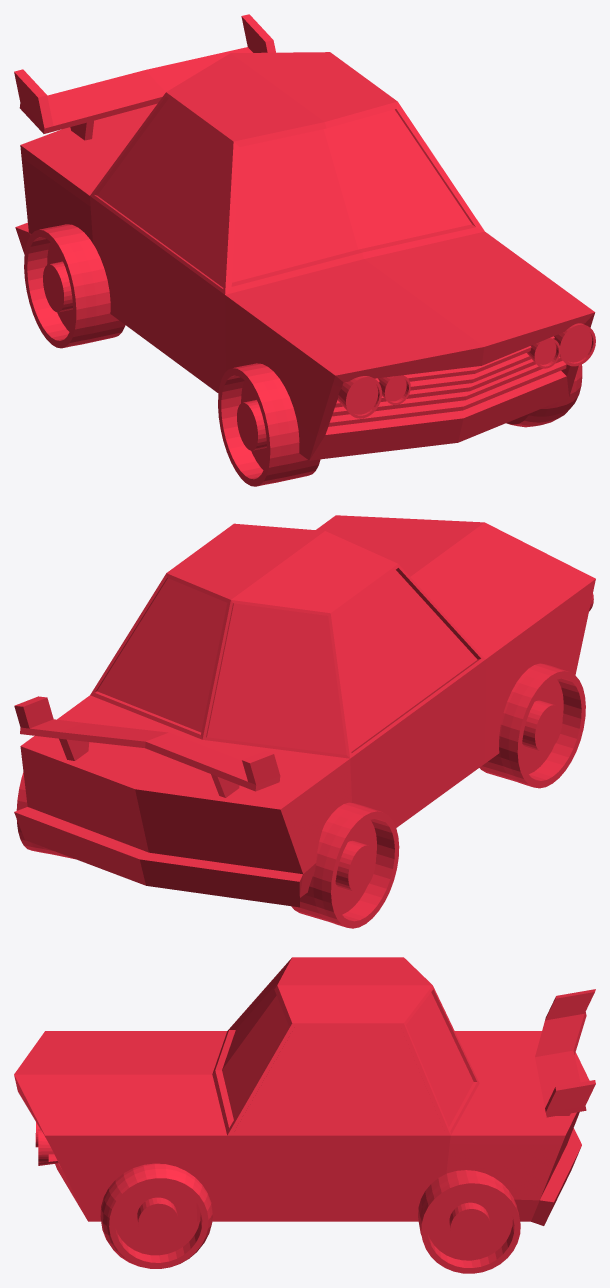
Rendered from auto.fbx.
The picture shows the model from 3 angles, top to bottom: view 1: azimuth 30°, elevation 25°; view 2: azimuth 150°, elevation 25°; view 3: azimuth 270°, elevation 25°; orthographic projection. The views are drawn at different scales.
Parts seen in each view (by area): view 1: Cube.5413; view 2: Cube.5413; view 3: Cube.5413.
Part boxes in pixels (x1,y1,x2,y2): Cube.5413: [14, 14, 595, 486]; Cube.5413: [14, 515, 595, 928]; Cube.5413: [14, 957, 595, 1273].
Size of the model in its own units: 200 by 160 by 370.
